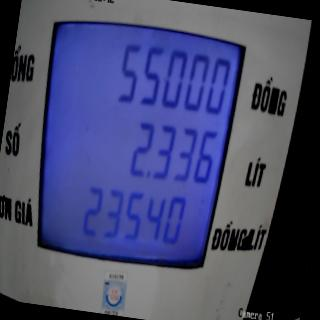screen: (18, 0, 254, 284)
